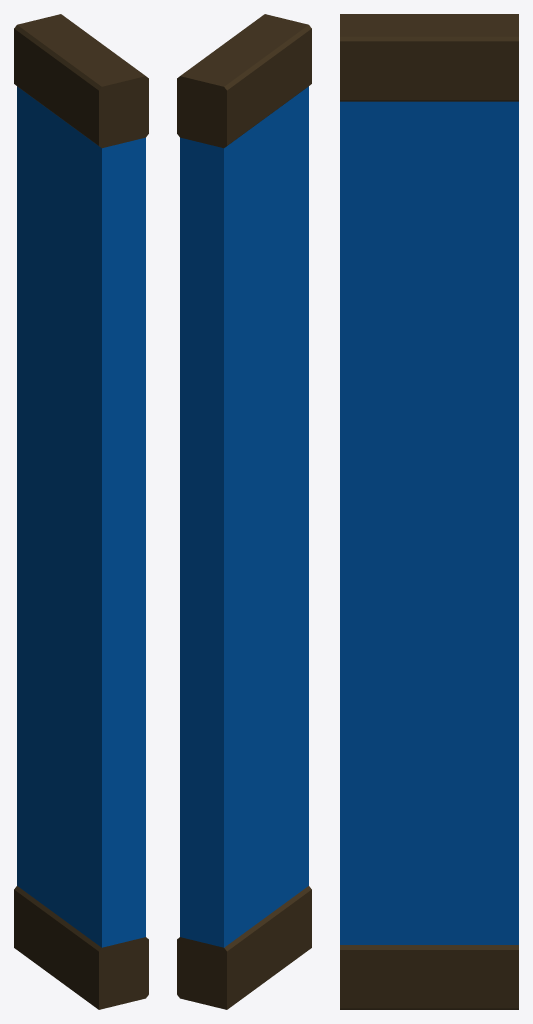
Rendered from Small_Wall.fbx.
The picture shows the model from 3 angles, left to right: view 1: azimuth 30°, elevation 25°; view 2: azimuth 150°, elevation 25°; view 3: azimuth 270°, elevation 25°; orthographic projection. The views are drawn at different scales.
Parts seen in each view (by area): view 1: SmallWallTile; view 2: SmallWallTile; view 3: SmallWallTile.
Part boxes in pixels (x1,y1,x2,y2): SmallWallTile: (14,14,148,1009); SmallWallTile: (177,14,311,1009); SmallWallTile: (340,14,518,1009).
Bounding box in the file's own units: 34 × 600 × 100.
